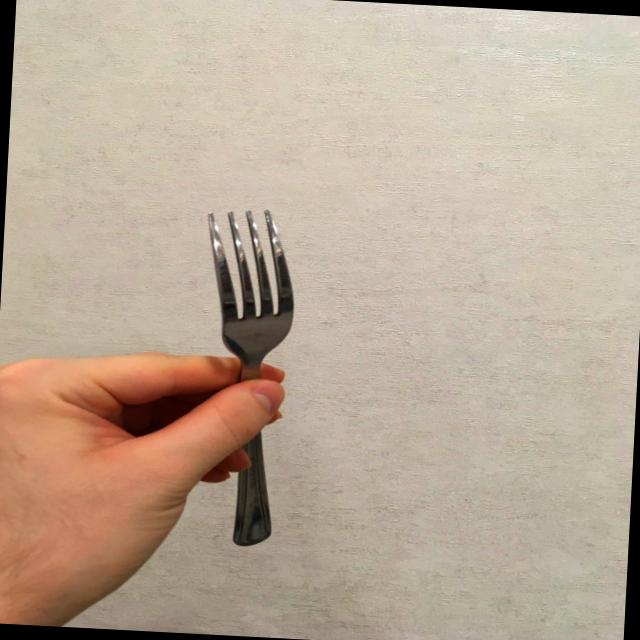fork: (186, 202, 303, 548)
